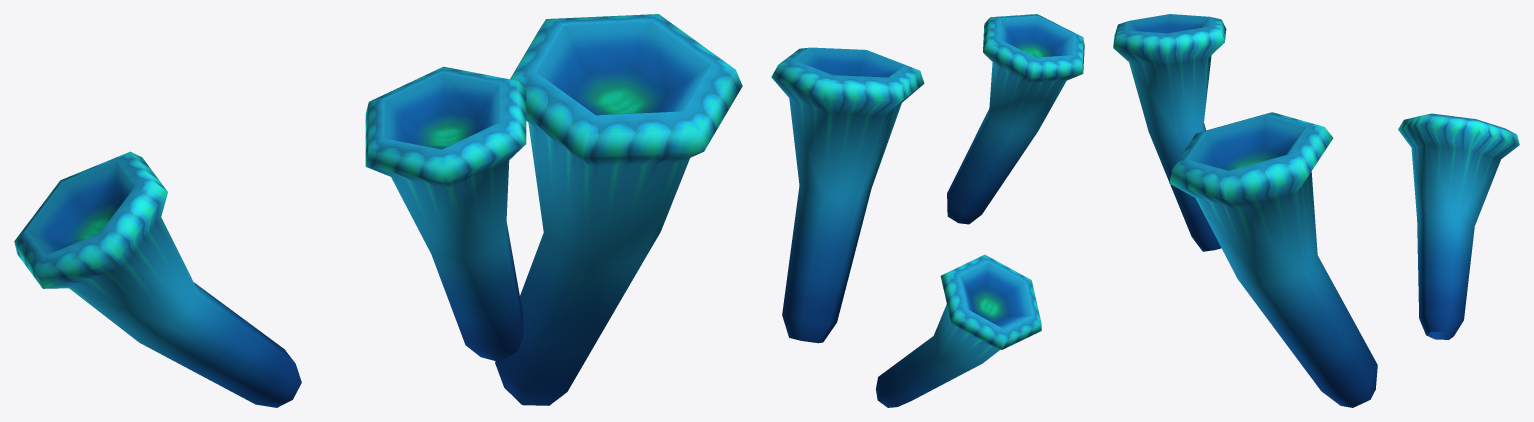
File: Coral_14a.FBX
The picture shows the model from 3 angles, left to right: view 1: azimuth 30°, elevation 25°; view 2: azimuth 150°, elevation 25°; view 3: azimuth 270°, elevation 25°; orthographic projection. The views are drawn at different scales.
Parts seen in each view (by area): view 1: Coral_14a; view 2: Coral_14a; view 3: Coral_14a.
Part boxes in pixels (left/top/right/bottom): Coral_14a: left=14, top=14, right=742, bottom=407; Coral_14a: left=771, top=14, right=1084, bottom=407; Coral_14a: left=1113, top=14, right=1519, bottom=407.
Size of the model in its own units: 49.21 by 39.5 by 46.08.
